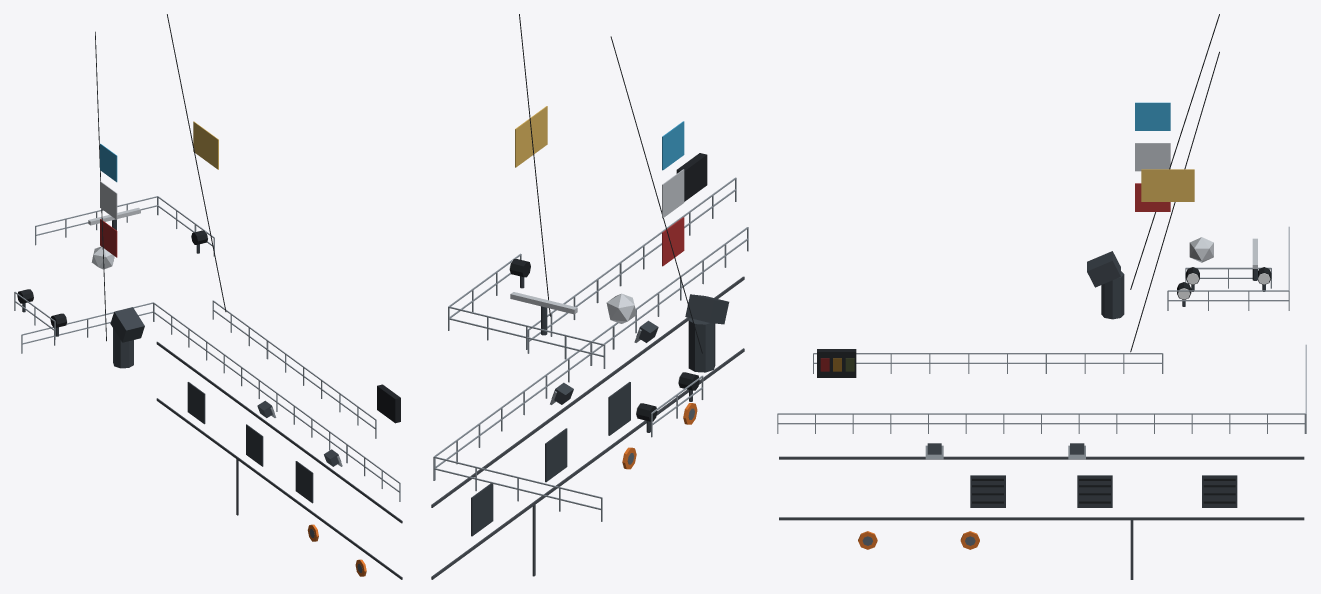
The model's file is env_carrier_island_kit.fbx.
3 views of the same model, side by side, from view 1: azimuth 30°, elevation 25°; view 2: azimuth 150°, elevation 25°; view 3: azimuth 270°, elevation 25° (orthographic). The views are drawn at different scales.
Visible parts, largest first — view 1: env_carrier_island_kit; view 2: env_carrier_island_kit; view 3: env_carrier_island_kit.
Part boxes in pixels (box(x1,y1,x2,y2)): env_carrier_island_kit: box(14, 14, 402, 579); env_carrier_island_kit: box(431, 14, 748, 579); env_carrier_island_kit: box(777, 14, 1306, 579).
Bounding box in the file's own units: 2436 × 6352 × 5942.
